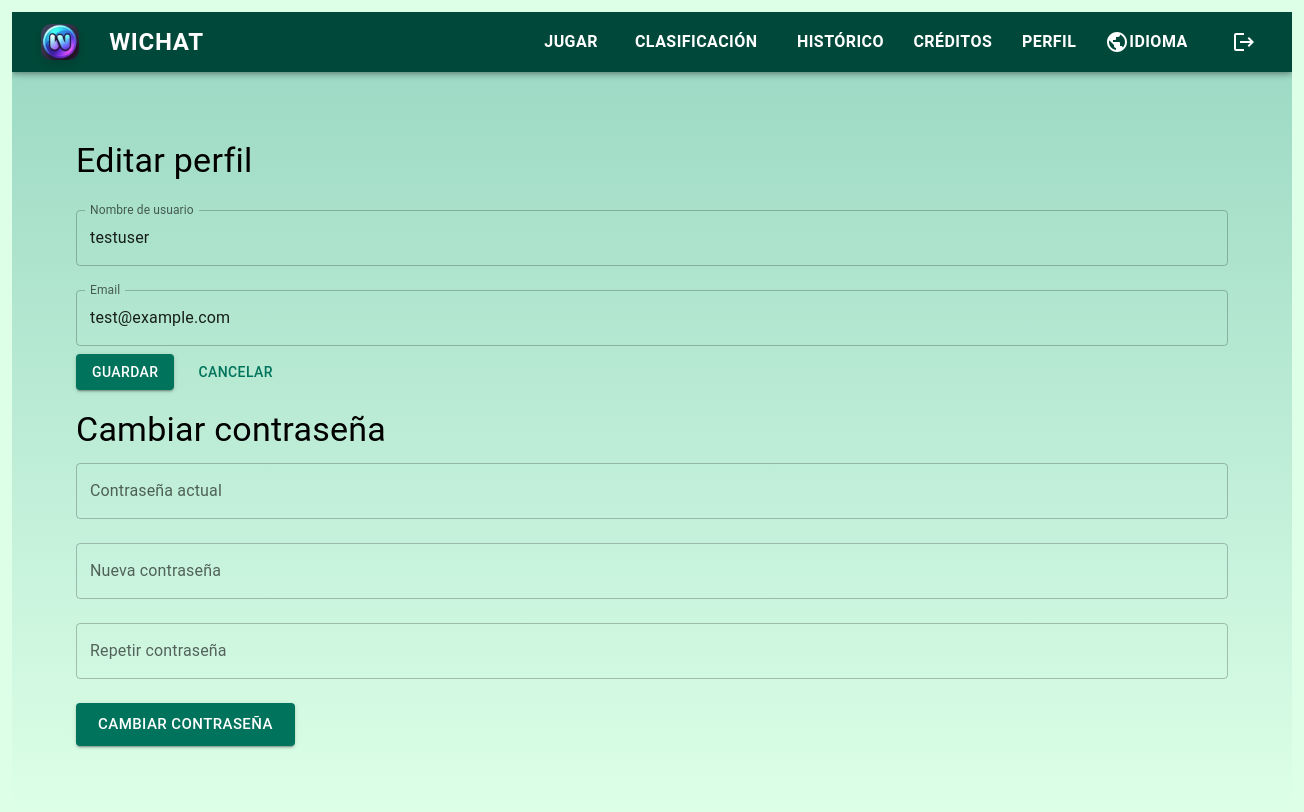
Test: EditProfile Component › displays generic error message if user is not found on save (updateOne returns 0 matched)
The image size is (1304, 812).
Click the button with test id "save-button" at (125, 372), box 76,354 -> 174,390
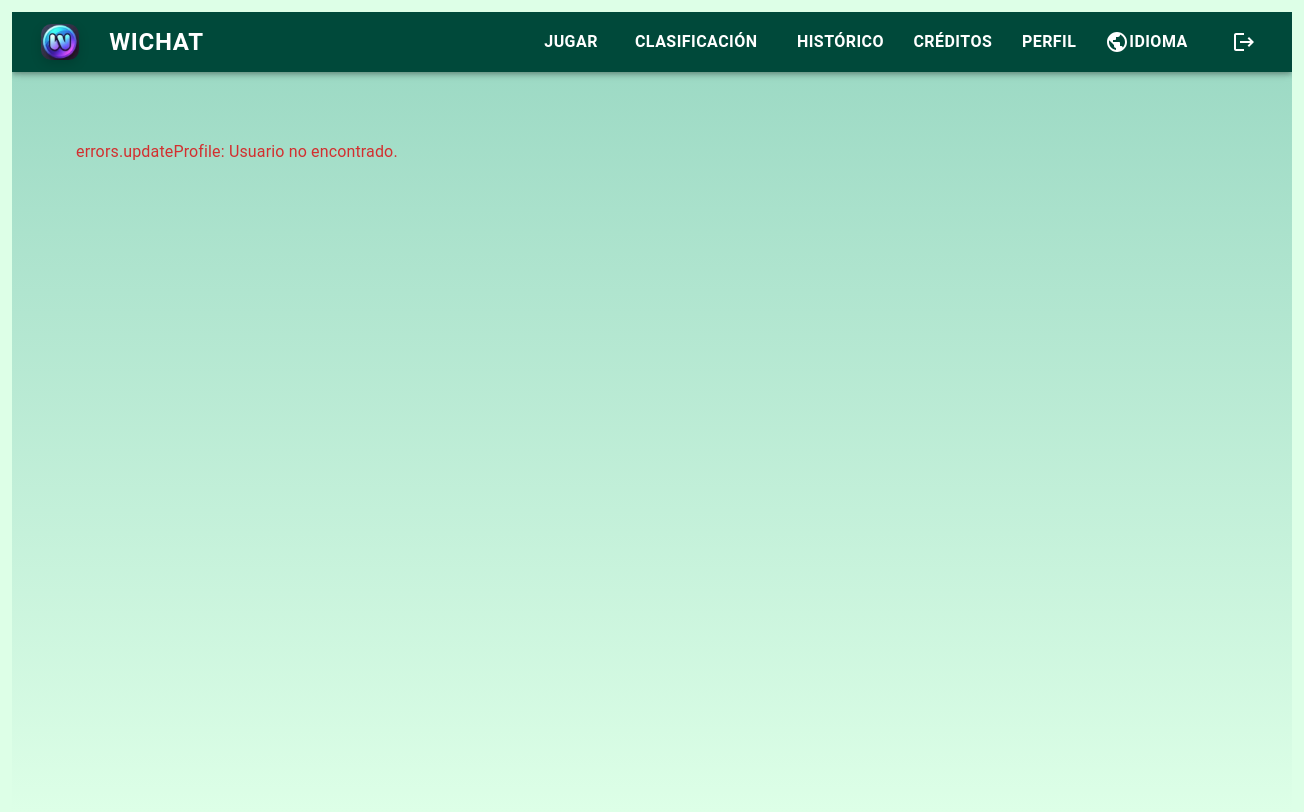
Expected: the text "errors.updateProfile: Usuario no encontrado." is shown, 76,142 -> 398,161
